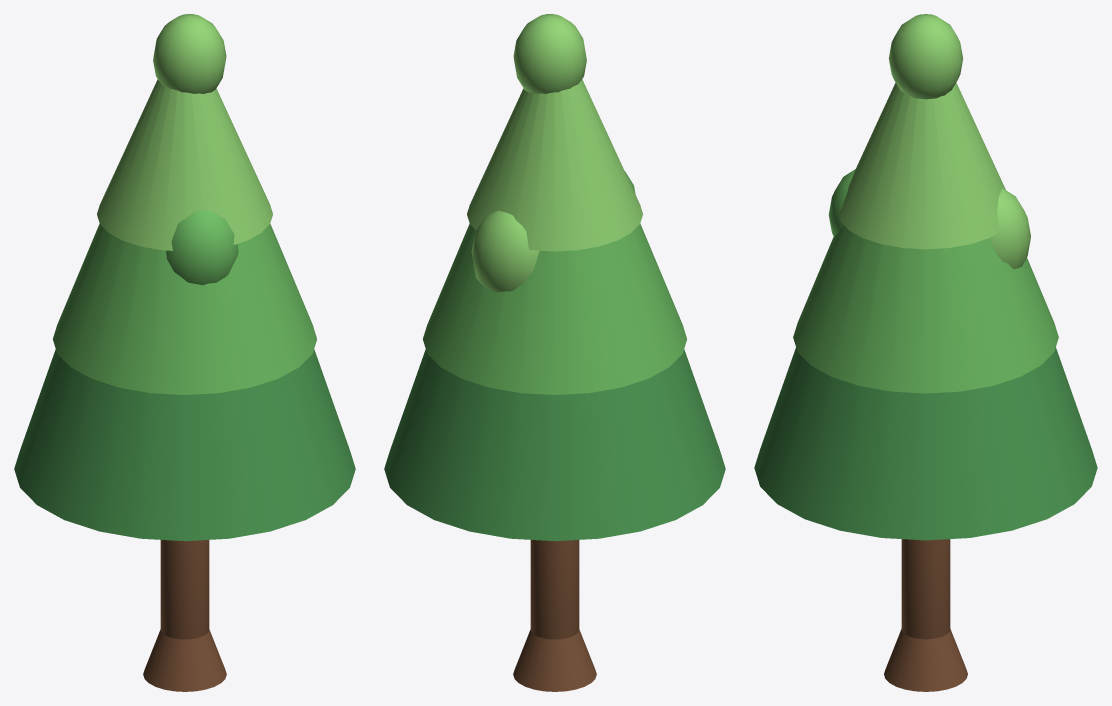
File: tree_big.glb
3 renders of one model, left to right at view 1: azimuth 30°, elevation 25°; view 2: azimuth 150°, elevation 25°; view 3: azimuth 270°, elevation 25°, orthographic.
Parts seen in each view (by area): view 1: tree_big; view 2: tree_big; view 3: tree_big.
Boxes of the visible parts, left/top/right/bottom form: tree_big: left=14, top=14, right=355, bottom=691; tree_big: left=384, top=14, right=725, bottom=691; tree_big: left=754, top=14, right=1097, bottom=691.
Bounding box in the file's own units: 3.1 × 6.57 × 3.1.
